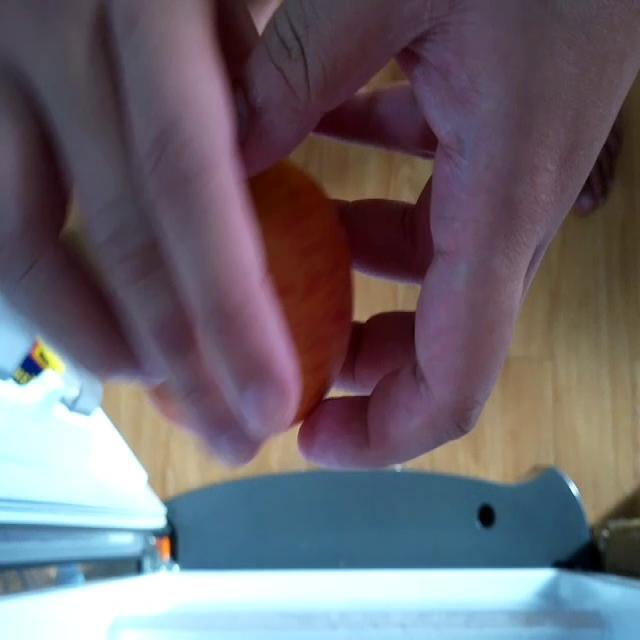apple: (249, 157, 354, 430)
